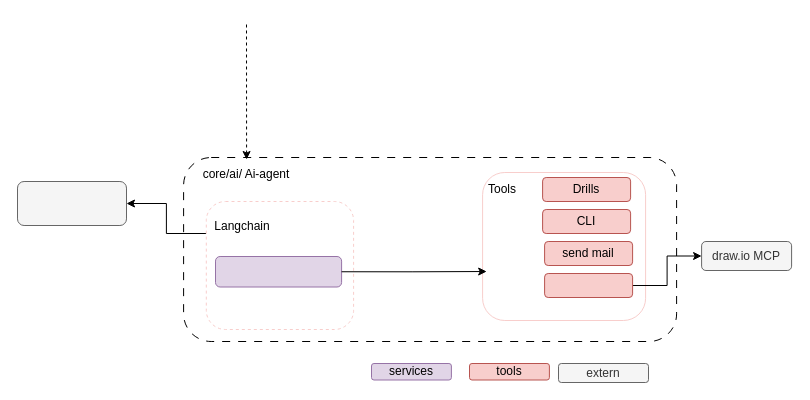
The diagram is 810 pixels wide and 400 high, and some of its shapes have lost their labels. Each missing label, with the box of its shape:
Ai Agent create_agent: (214, 256, 342, 287)
LLM providers: (16, 180, 126, 226)
MCP: (544, 272, 633, 298)
